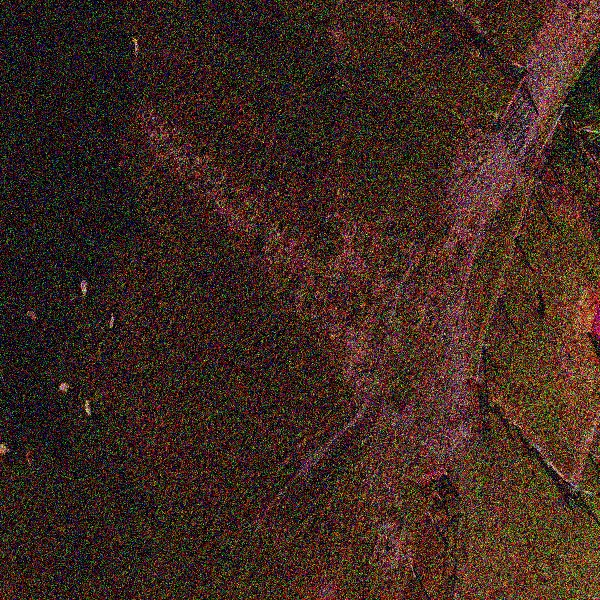sheep: (84, 217, 106, 257), (532, 280, 550, 324), (20, 307, 42, 339), (84, 393, 99, 432), (77, 273, 96, 303), (131, 33, 147, 68), (108, 305, 122, 344), (25, 443, 38, 478), (57, 380, 76, 402), (0, 360, 12, 394), (0, 440, 15, 464)
